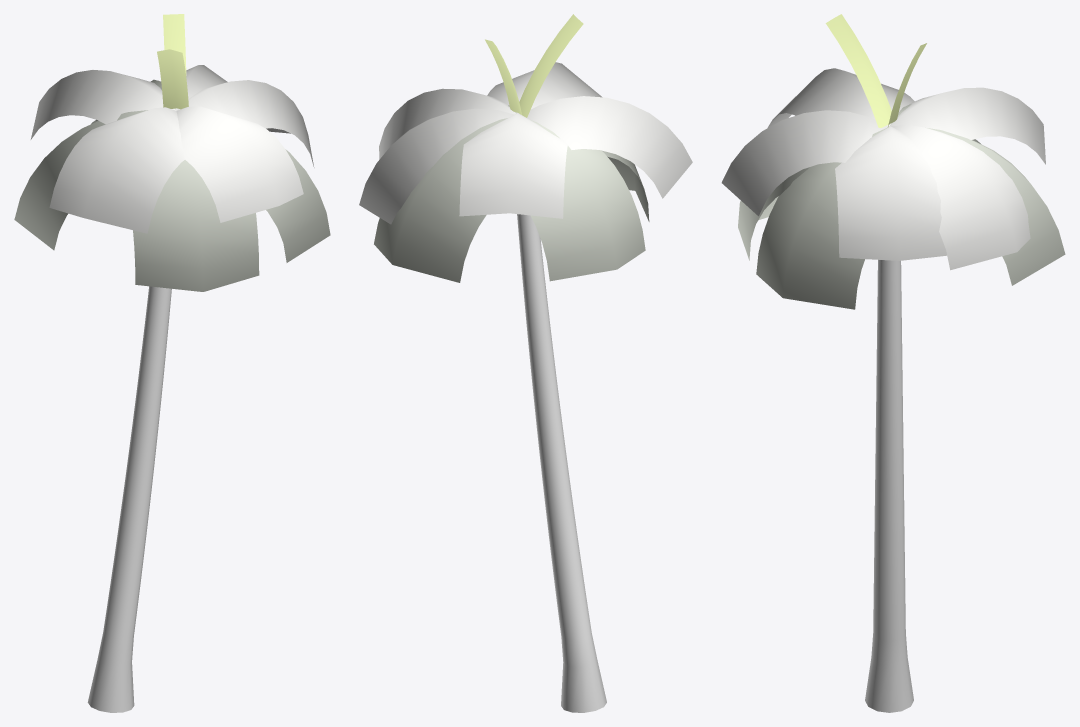
The model's file is plant_palm_d.glb.
The picture shows the model from 3 angles, left to right: view 1: azimuth 30°, elevation 25°; view 2: azimuth 150°, elevation 25°; view 3: azimuth 270°, elevation 25°; orthographic projection. The views are drawn at different scales.
Visible parts, largest first — view 1: plant_palm_5; view 2: plant_palm_5; view 3: plant_palm_5.
Part boxes in pixels (<box>): plant_palm_5: <box>14,14,330,712</box>; plant_palm_5: <box>359,14,692,712</box>; plant_palm_5: <box>721,14,1065,712</box>.
Bounding box in the file's own units: 5.66 × 13.24 × 5.88.
